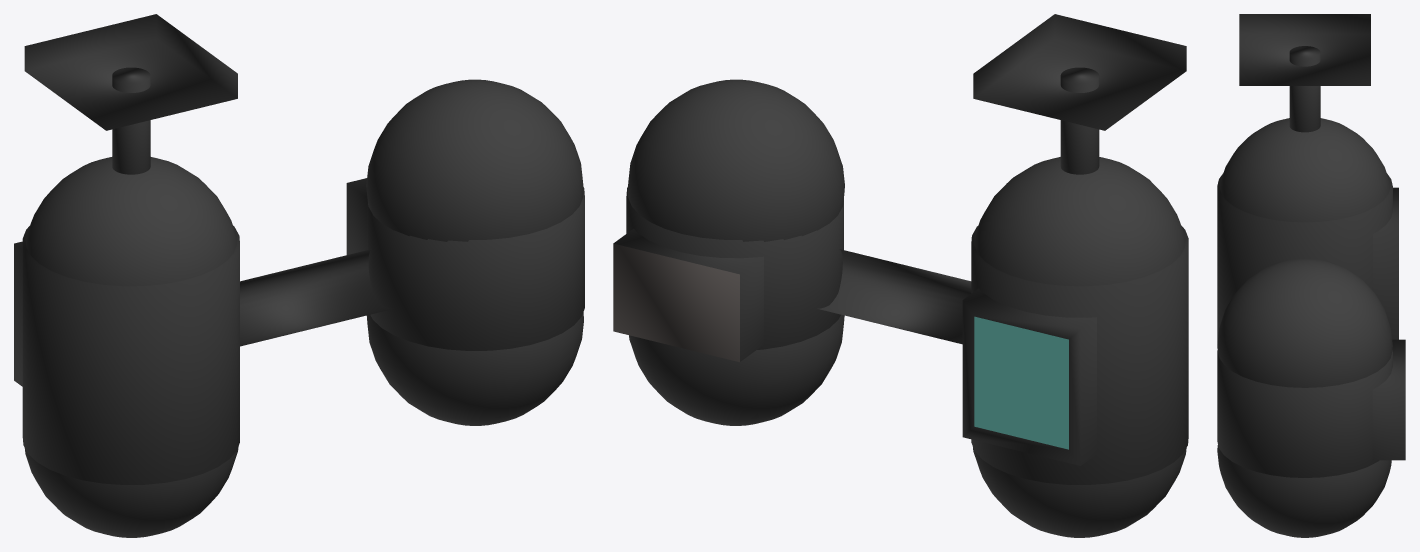
Rendered from O2_generator.fbx.
The picture shows the model from 3 angles, left to right: view 1: azimuth 30°, elevation 25°; view 2: azimuth 150°, elevation 25°; view 3: azimuth 270°, elevation 25°; orthographic projection. The views are drawn at different scales.
Parts seen in each view (by area): view 1: Цилиндр.002; view 2: Цилиндр.002; view 3: Цилиндр.002.
Part boxes in pixels (box(x1,y1,x2,y2)): Цилиндр.002: box(14, 14, 584, 537); Цилиндр.002: box(613, 14, 1188, 537); Цилиндр.002: box(1217, 14, 1405, 537).
Size of the model in its own units: 565 by 474 by 215.
